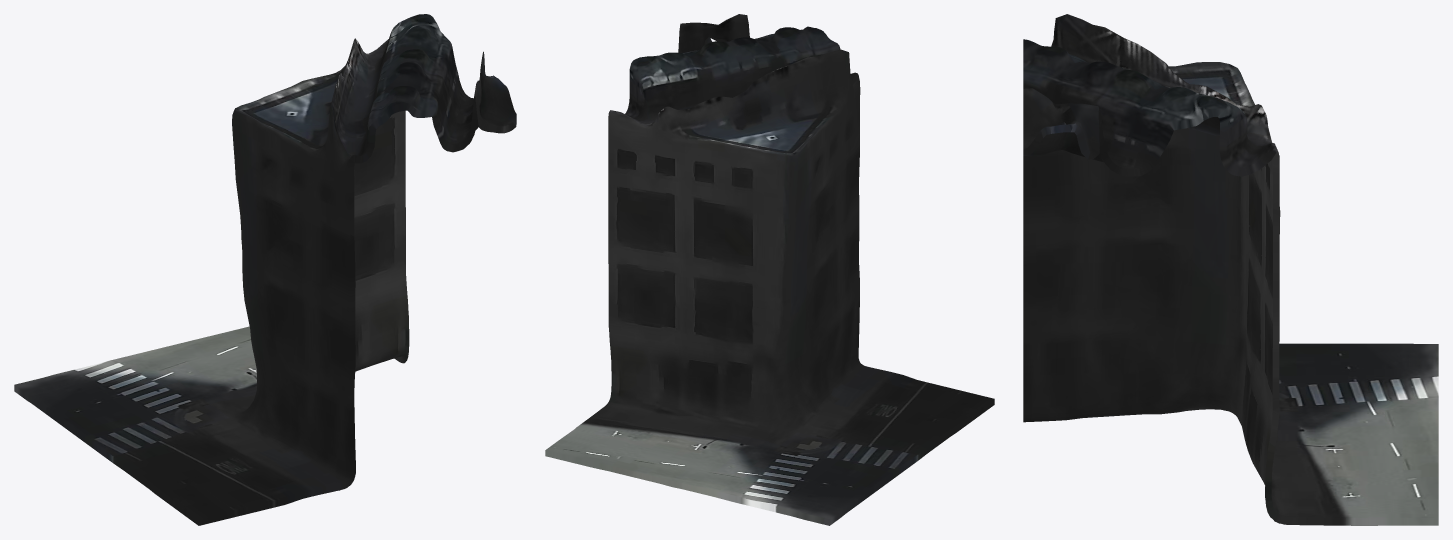
The model's file is z20-167776-405231-h0-yup-uvflip-v3-world.glb.
3 renders of one model, left to right at view 1: azimuth 30°, elevation 25°; view 2: azimuth 150°, elevation 25°; view 3: azimuth 270°, elevation 25°, orthographic. The views are drawn at different scales.
Size of the model in its own units: 30.16 by 33.96 by 30.32.
Materials: 1 (1 with a texture image).
